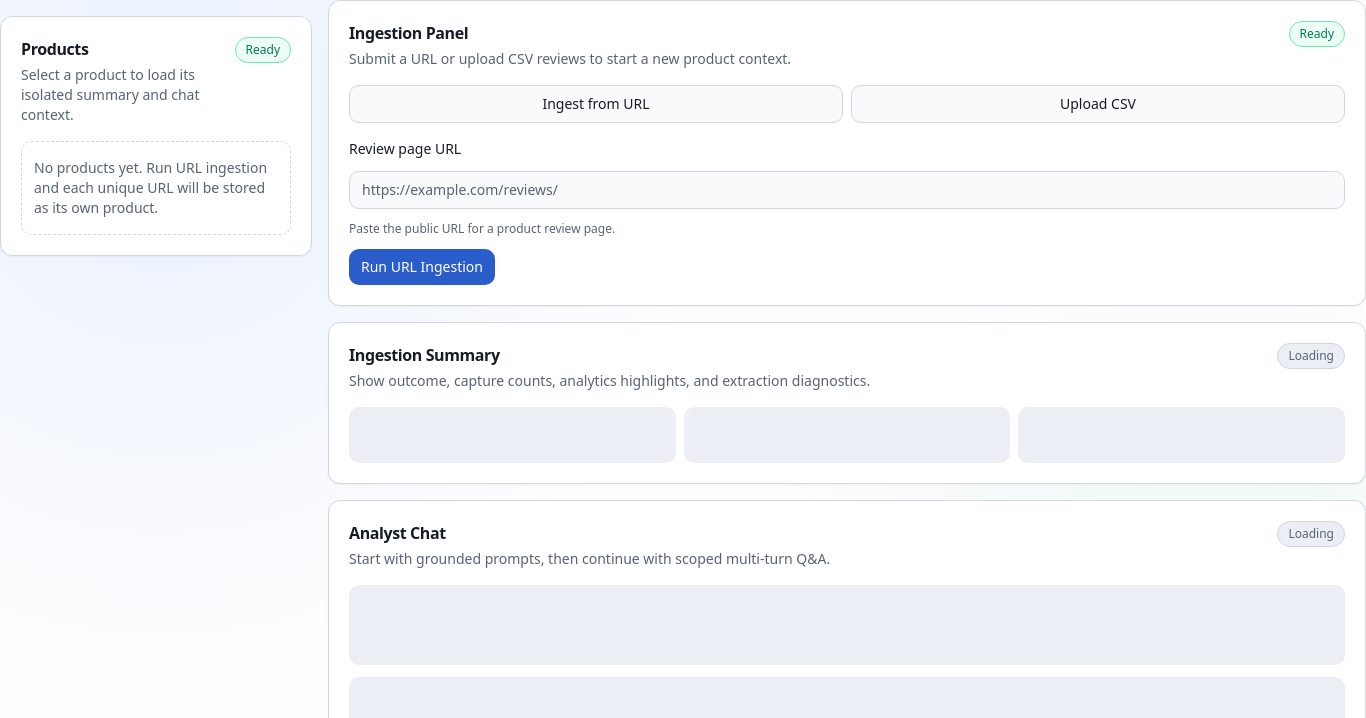
CoreAnalystWorkspace › optimistically prepends a newly ingested product without full reload
Expected: the text "No products yet" is shown, [34, 158, 267, 217]
Type "https://www.g2.com/products/new-product/reviews" into the field labelled "Review page URL" at {"x": 847, "y": 190}, box [349, 171, 1345, 209]
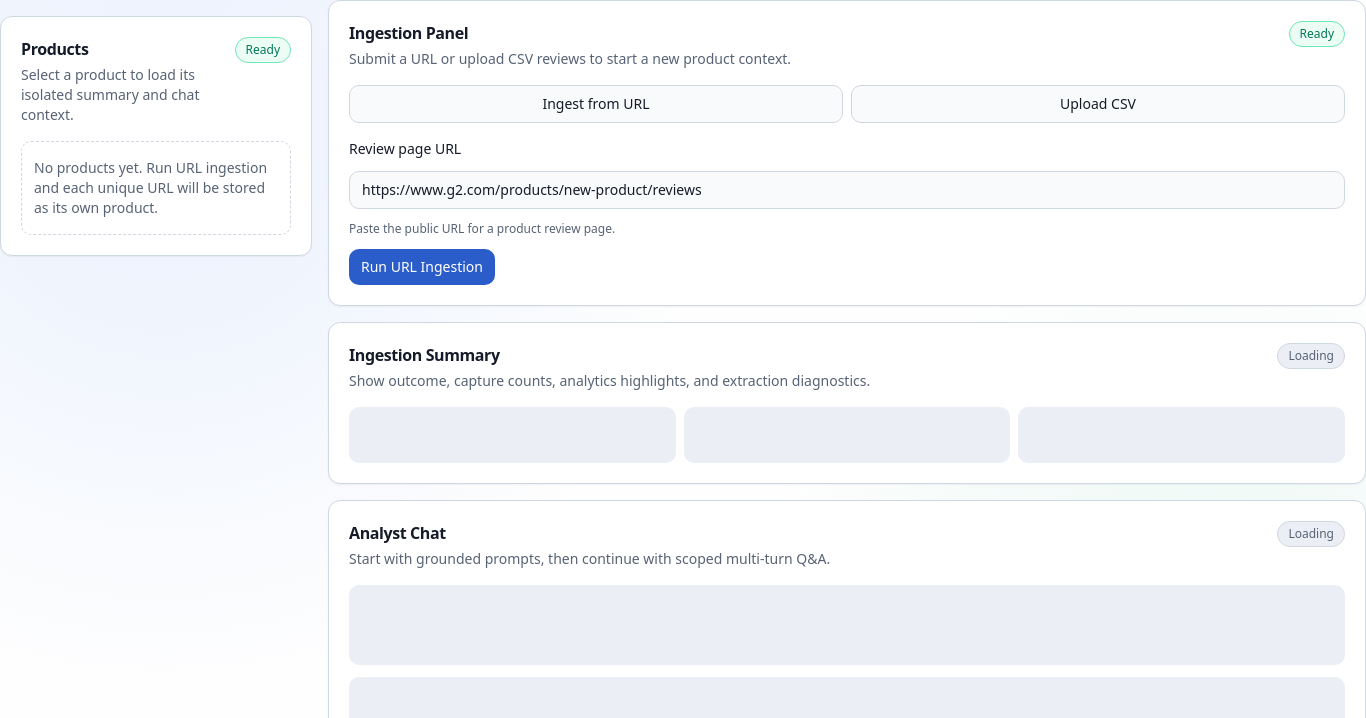
Click the button "Run URL Ingestion" at {"x": 422, "y": 267}, box [349, 249, 495, 285]
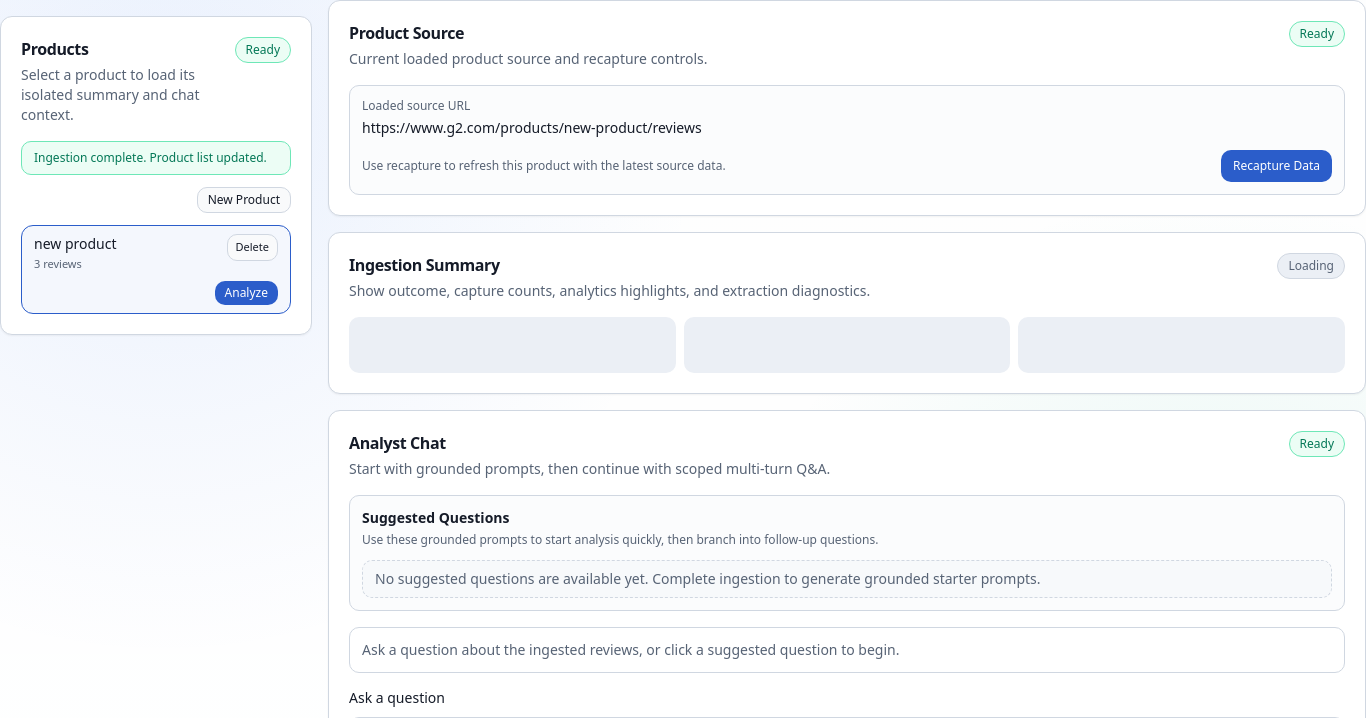
Expected: the text "new product" is shown, [34, 234, 116, 254]
Expected: the text "Ingestion complete. Product list updated." is shown, [34, 150, 267, 166]
